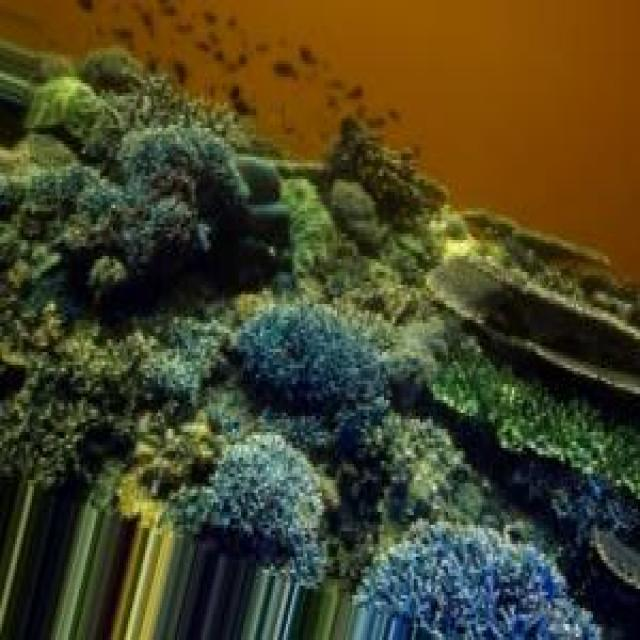Healthy: (76, 65, 257, 254), (20, 180, 210, 334), (353, 526, 603, 640), (199, 433, 334, 590), (468, 321, 640, 439), (231, 308, 391, 423)
